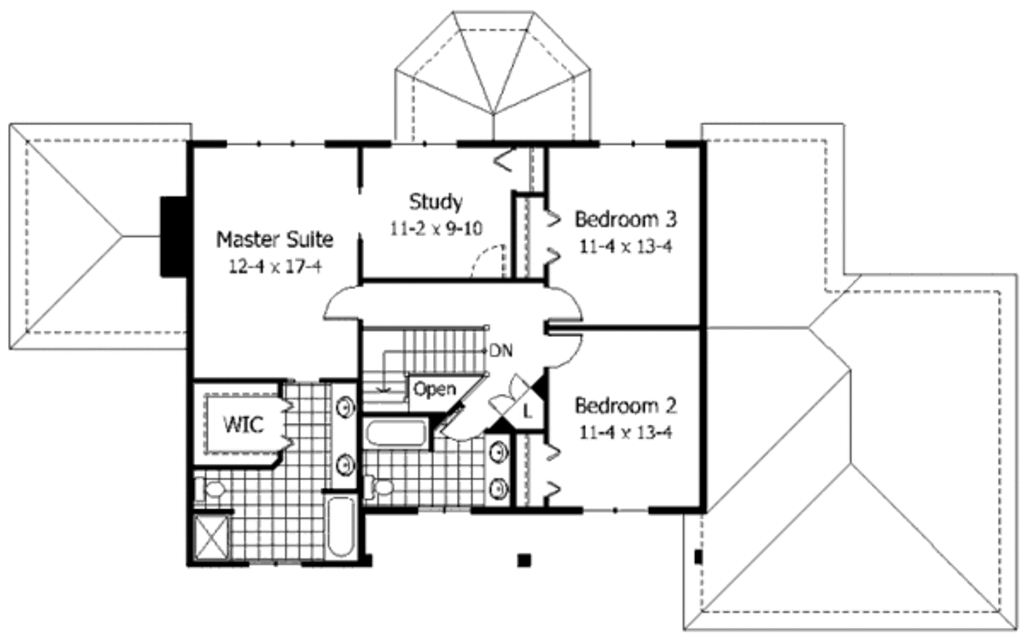door: (541, 284, 582, 326), (491, 371, 529, 412), (322, 282, 363, 319)
large_sink: (194, 467, 229, 504), (363, 471, 398, 501)
small_sink: (331, 388, 360, 487), (482, 433, 512, 508)
stairs: (360, 327, 486, 415)
tub: (320, 489, 363, 565), (359, 418, 430, 452)
windows: (219, 136, 331, 152), (596, 133, 676, 151), (578, 501, 650, 520), (410, 501, 486, 517), (383, 136, 457, 150)
